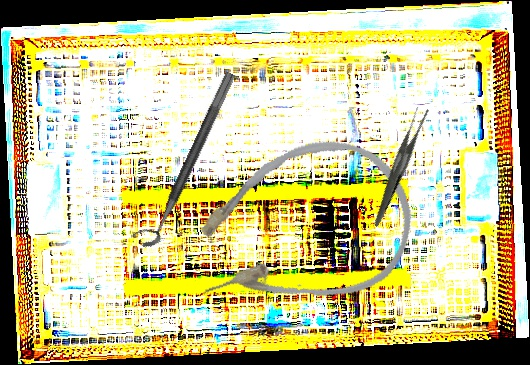Cannula: (171, 120, 429, 335)
Dressing Forceps: (341, 103, 456, 227)
Fixation Ring: (129, 64, 237, 252)
